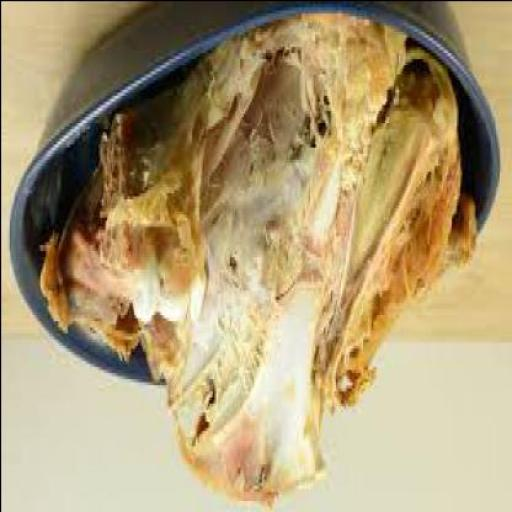biodegradable: (142, 15, 408, 511), (39, 30, 266, 366), (330, 46, 480, 408)
